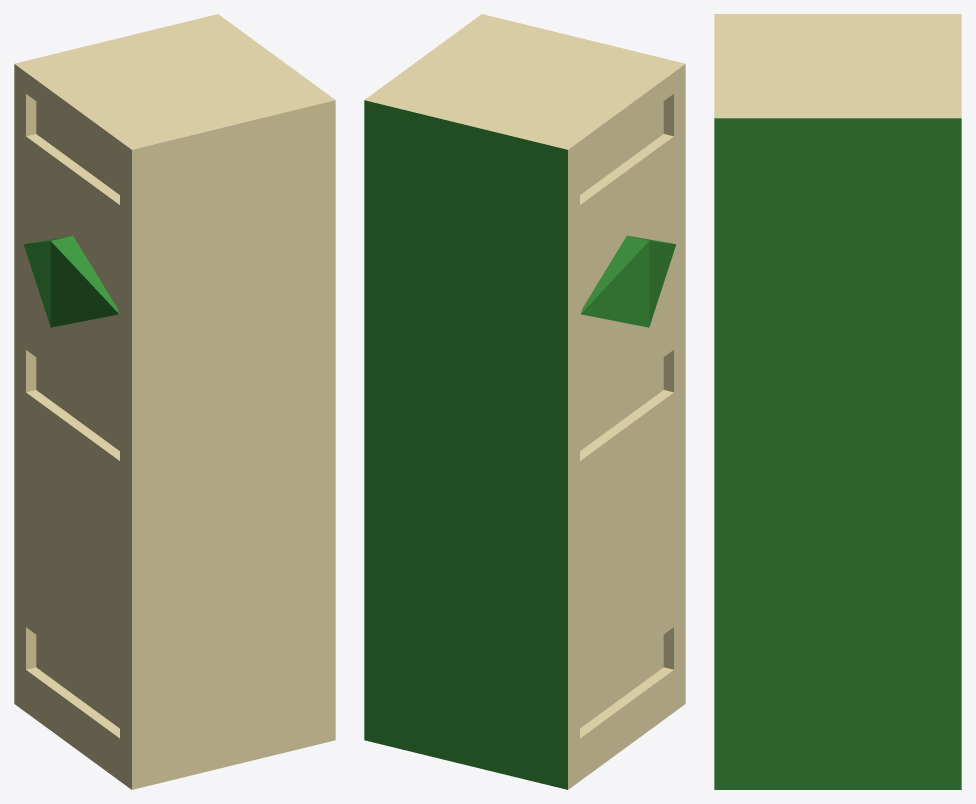
File: s3 turn2.FBX
3 views of the same model, side by side, from view 1: azimuth 30°, elevation 25°; view 2: azimuth 150°, elevation 25°; view 3: azimuth 270°, elevation 25° (orthographic). The views are drawn at different scales.
Parts seen in each view (by area): view 1: Box080; view 2: Box080; view 3: Box080.
Boxes of the visible parts, x1=… form: Box080: x1=14, y1=14, x2=335, y2=789; Box080: x1=364, y1=14, x2=685, y2=789; Box080: x1=714, y1=14, x2=961, y2=789.
Size of the model in its own units: 111 by 300 by 100.
